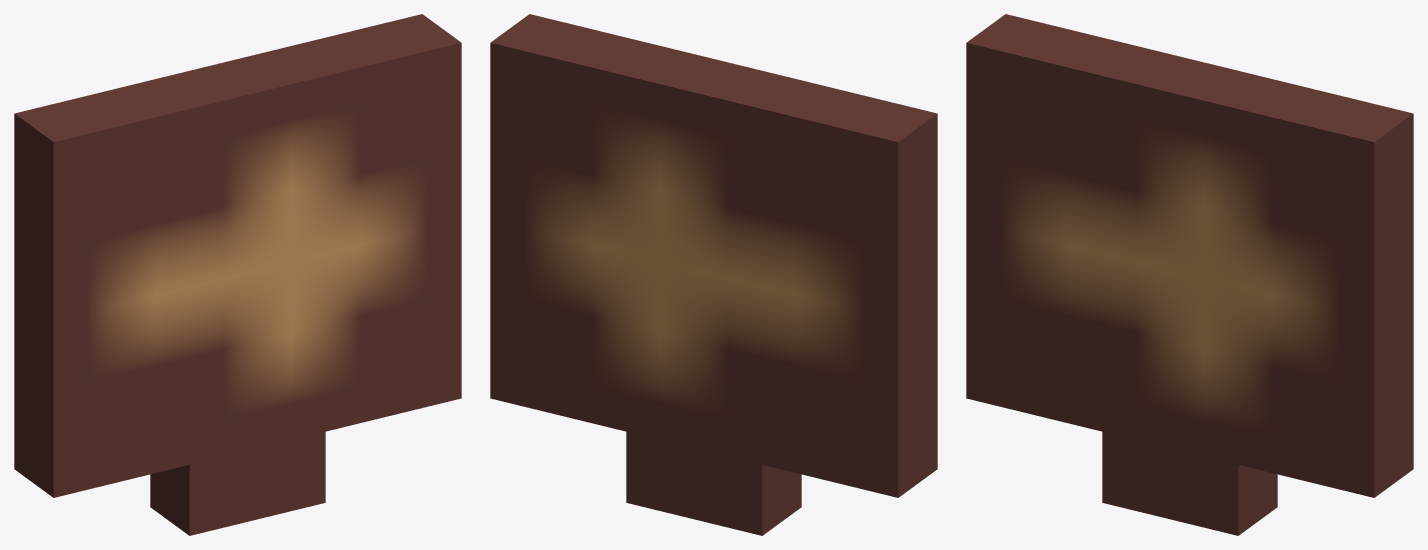
Rendered from sign_arrow.fbx.
3 renders of one model, left to right at view 1: azimuth 30°, elevation 25°; view 2: azimuth 150°, elevation 25°; view 3: azimuth 330°, elevation 25°, orthographic.
Visible parts, largest first — view 1: sign_arrow; view 2: sign_arrow; view 3: sign_arrow.
Part boxes in pixels (left/top/right/bottom): sign_arrow: left=14, top=14, right=461, bottom=535; sign_arrow: left=490, top=14, right=937, bottom=535; sign_arrow: left=966, top=14, right=1413, bottom=535.
Size of the model in its own units: 6 by 6 by 1.
